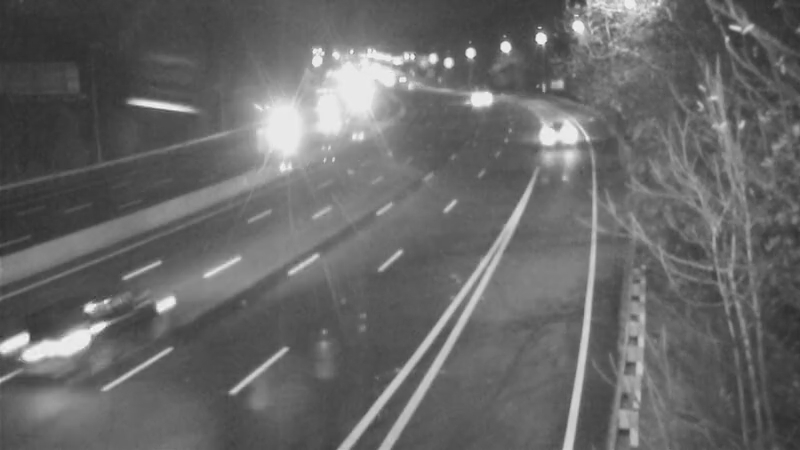vehicle: (1, 292, 106, 402), (457, 77, 507, 127), (525, 109, 575, 159), (254, 100, 304, 150), (302, 84, 352, 134)
